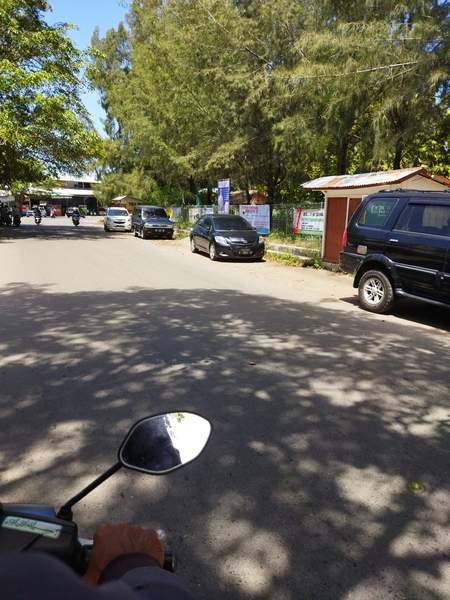car: (338, 185, 450, 334), (187, 211, 263, 267), (130, 202, 177, 244), (101, 206, 137, 235)
